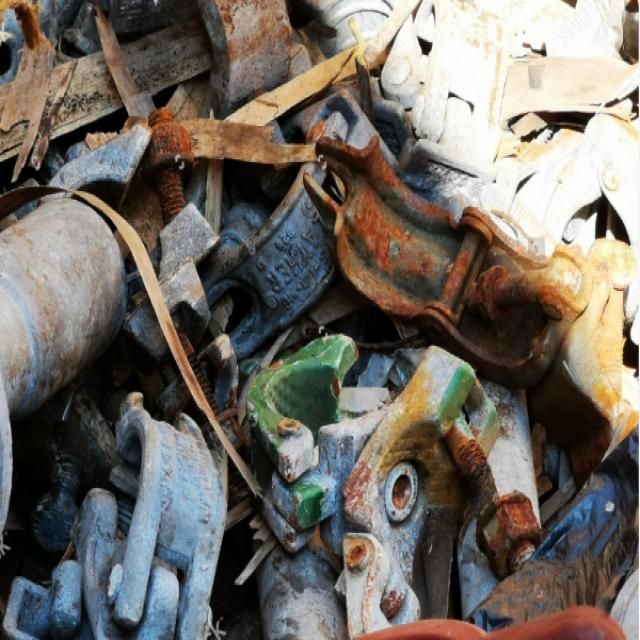Cylinder: (0, 199, 126, 418), (256, 545, 346, 640)
